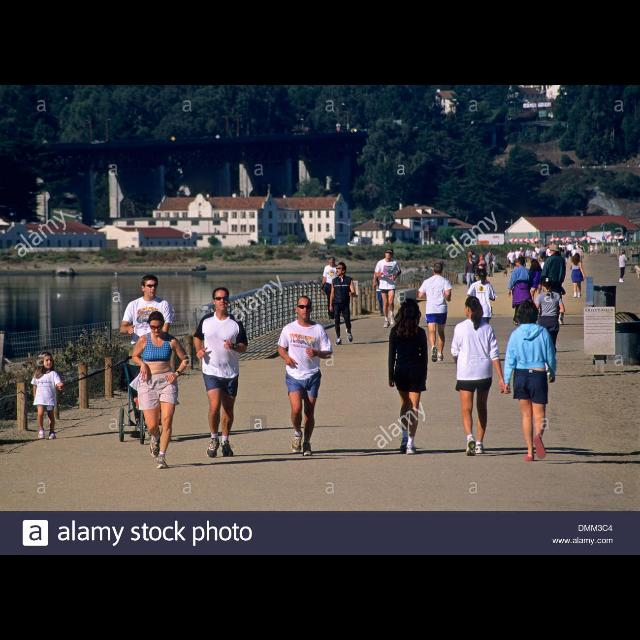head: (401, 300, 422, 326), (296, 296, 314, 322), (518, 302, 538, 324), (212, 288, 230, 312), (148, 312, 166, 336), (141, 276, 159, 298), (464, 296, 480, 318), (38, 352, 54, 370), (541, 276, 553, 292), (336, 264, 346, 276), (434, 263, 444, 275), (478, 270, 488, 282), (385, 250, 395, 260), (516, 257, 526, 267), (550, 247, 560, 256), (328, 257, 336, 267), (532, 260, 540, 268), (378, 260, 386, 266), (574, 253, 580, 260), (480, 256, 486, 260), (468, 255, 472, 261), (488, 250, 492, 256), (622, 251, 626, 255), (468, 252, 472, 256), (516, 248, 520, 252), (520, 248, 524, 252), (532, 248, 536, 252), (527, 248, 529, 252), (580, 246, 584, 248), (560, 248, 562, 252), (511, 250, 514, 252), (578, 247, 580, 250), (560, 242, 562, 245), (548, 247, 550, 249), (538, 246, 540, 248), (542, 246, 544, 248), (568, 244, 570, 246)
person: (192, 287, 248, 459), (131, 311, 189, 471), (276, 295, 332, 459), (449, 296, 506, 456), (120, 275, 174, 443), (504, 299, 558, 465), (387, 298, 428, 457), (418, 263, 452, 363), (30, 352, 64, 442), (531, 276, 565, 366), (328, 260, 357, 346), (466, 269, 496, 351), (538, 244, 568, 326), (374, 248, 402, 328), (507, 256, 537, 328), (318, 258, 344, 322), (526, 258, 546, 326), (372, 258, 392, 318), (569, 253, 587, 299), (464, 254, 476, 296), (464, 251, 476, 287), (618, 250, 630, 284), (477, 254, 488, 286), (484, 250, 496, 278), (507, 247, 517, 275), (512, 248, 522, 272), (557, 248, 565, 270), (518, 248, 526, 268), (524, 248, 532, 268), (531, 247, 539, 267), (576, 246, 584, 266), (558, 242, 566, 262), (533, 245, 541, 263), (540, 244, 546, 262), (568, 242, 574, 260), (546, 248, 552, 264), (579, 244, 585, 260)
